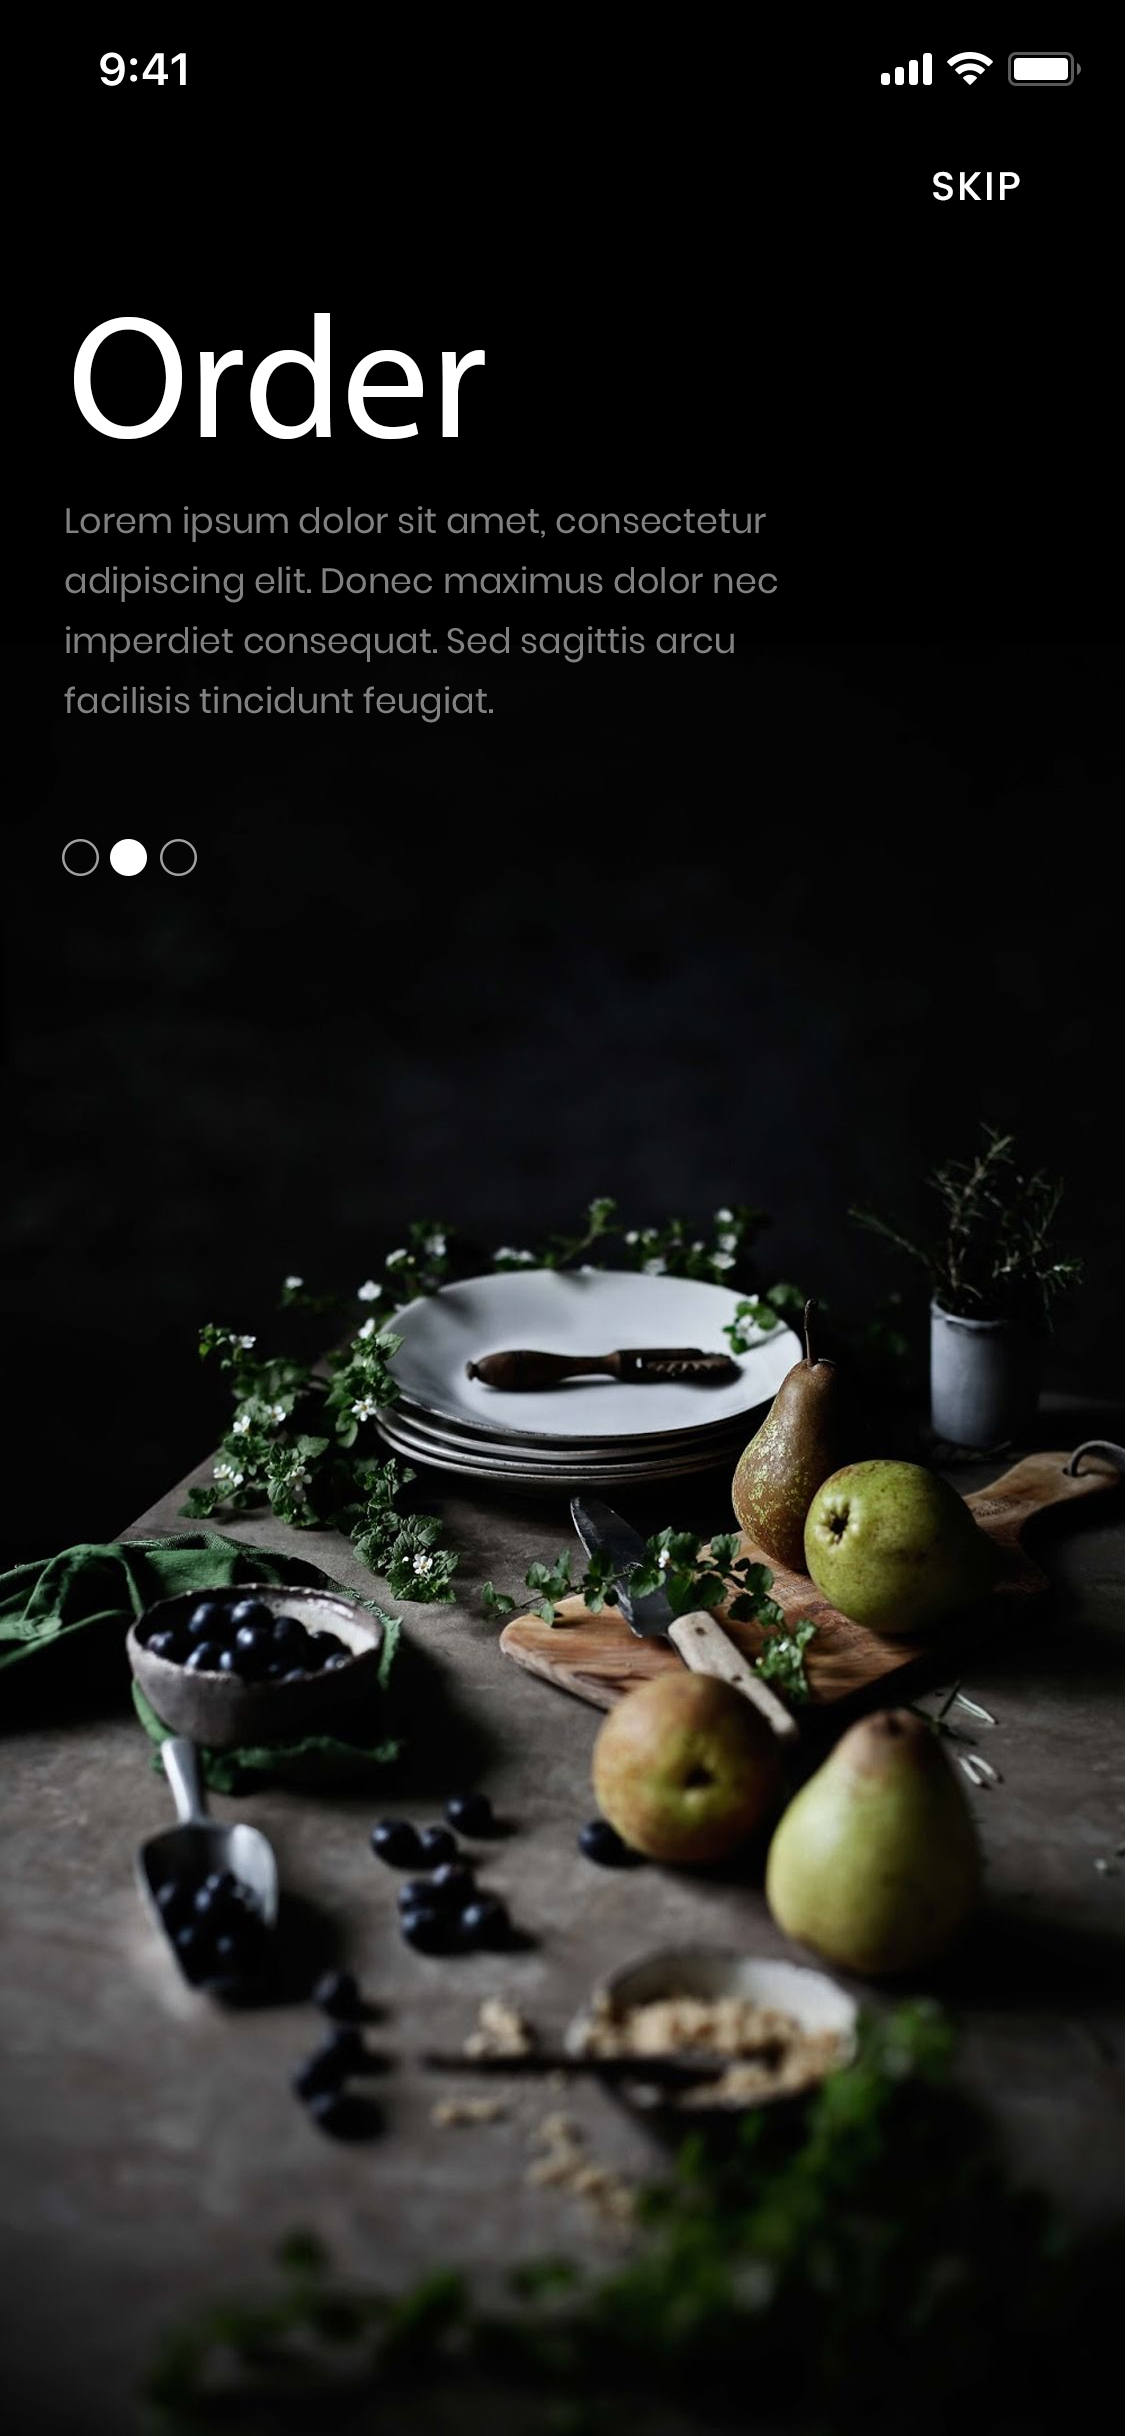BackgroundImage: (2, 1119, 1125, 2436)
PageIndicator: (61, 837, 200, 879)
Text: (64, 505, 778, 726), (73, 312, 486, 441), (931, 171, 1022, 204)
UpperTaskBar: (99, 51, 1083, 89)
